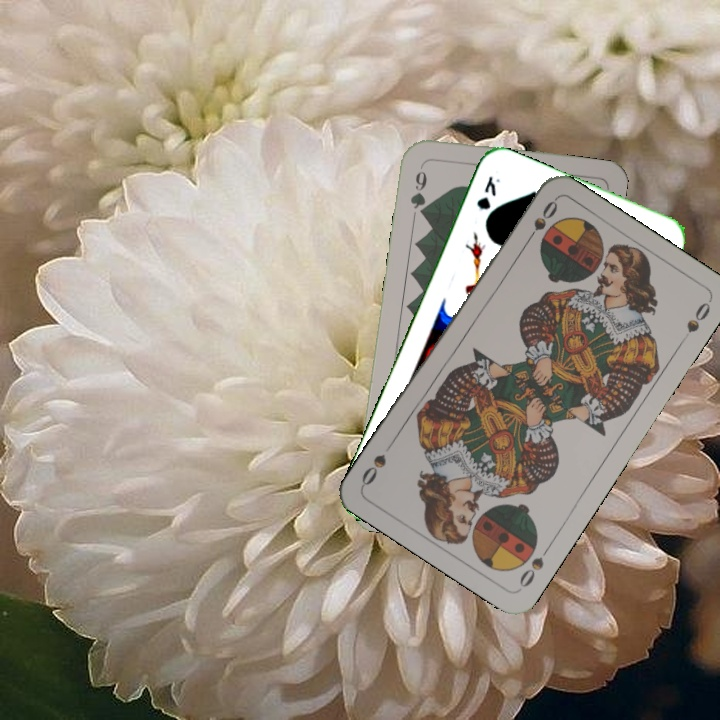G9: (406, 159, 430, 219)
GK: (472, 172, 503, 213)
SO: (520, 196, 561, 249), (515, 540, 554, 591)
